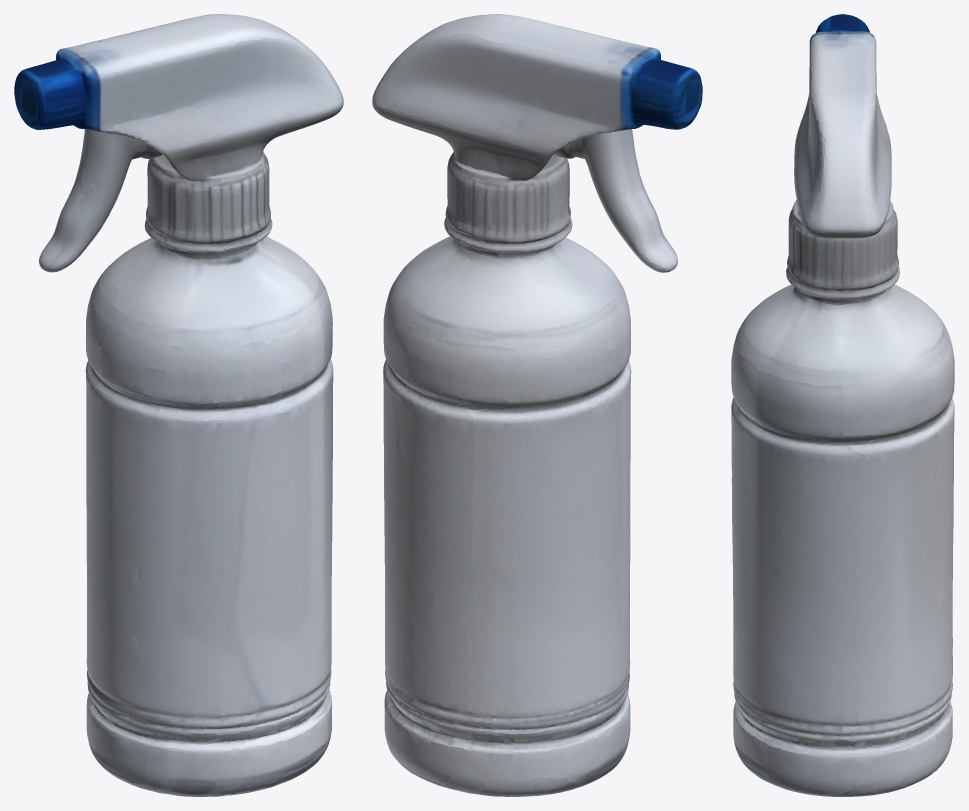
Rendered from parts.glb.
3 views of the same model, side by side, from view 1: azimuth 30°, elevation 25°; view 2: azimuth 150°, elevation 25°; view 3: azimuth 270°, elevation 25° (orthographic). The views are drawn at different scales.
Size of the model in its own units: 0.23 by 0.5237 by 0.1592.
4 materials, 4 textured.
